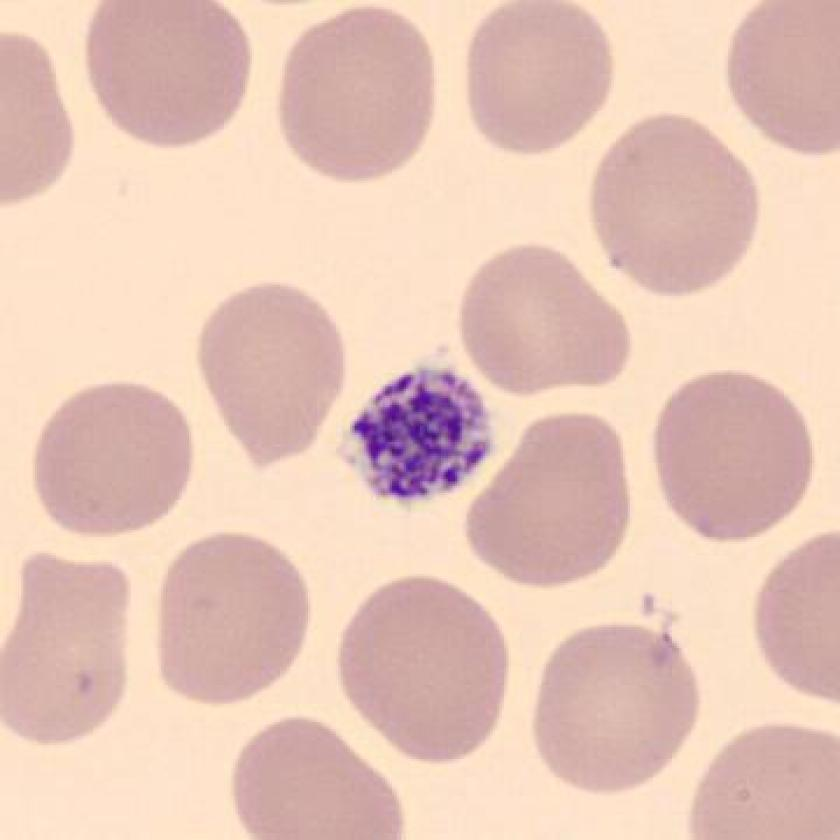platelets: (330, 351, 500, 513)
